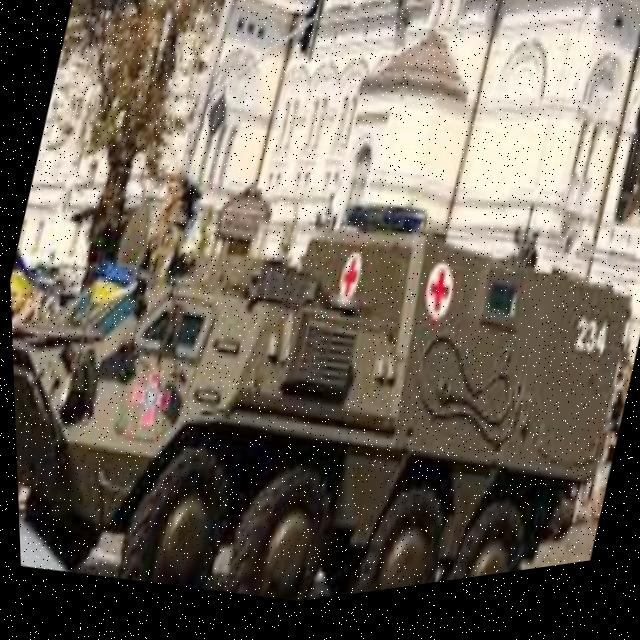MIL_APC: (5, 111, 640, 640)
